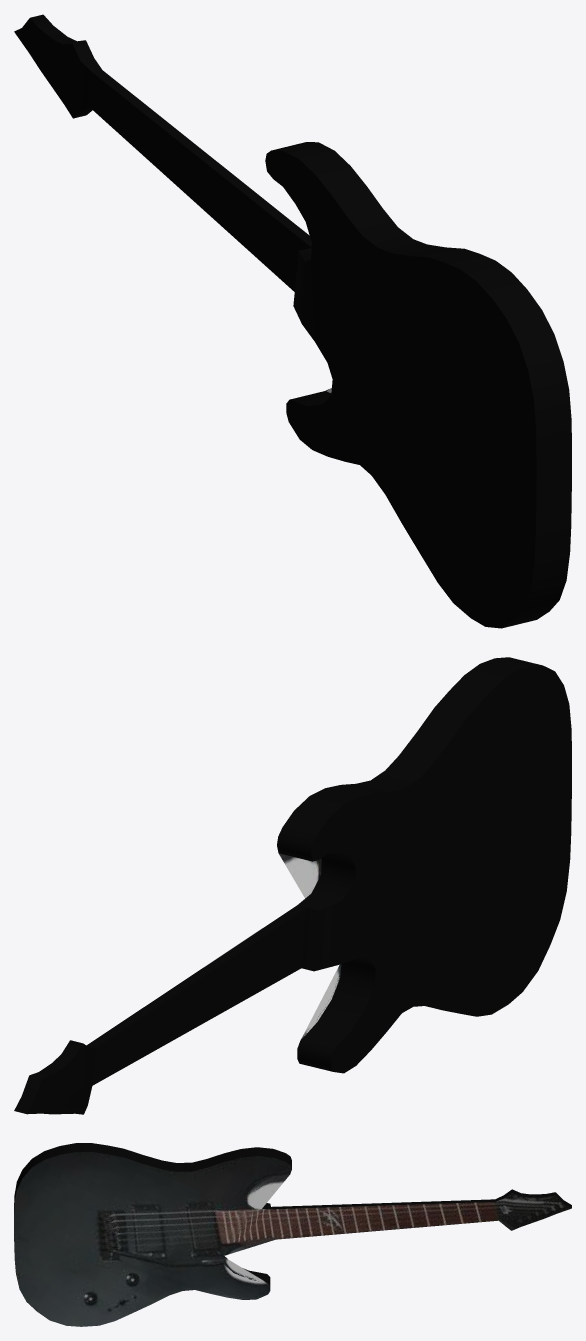
The model's file is Elec_guitar.fbx.
3 views of the same model, one above another, from view 1: azimuth 30°, elevation 25°; view 2: azimuth 150°, elevation 25°; view 3: azimuth 270°, elevation 25° (orthographic). The views are drawn at different scales.
Visible parts, largest first — view 1: Plane; view 2: Plane; view 3: Plane.
Part boxes in pixels (box(x1,y1,x2,y2)): Plane: box(14, 14, 571, 628); Plane: box(14, 657, 571, 1114); Plane: box(14, 1143, 571, 1326).
Bounding box in the file's own units: 18.87 × 174 × 502.
2 materials, 1 textured.
